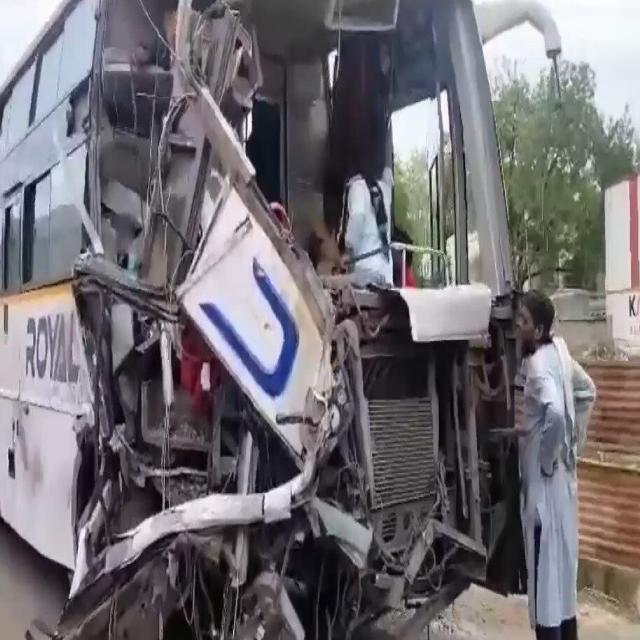accident: (0, 0, 561, 640)
